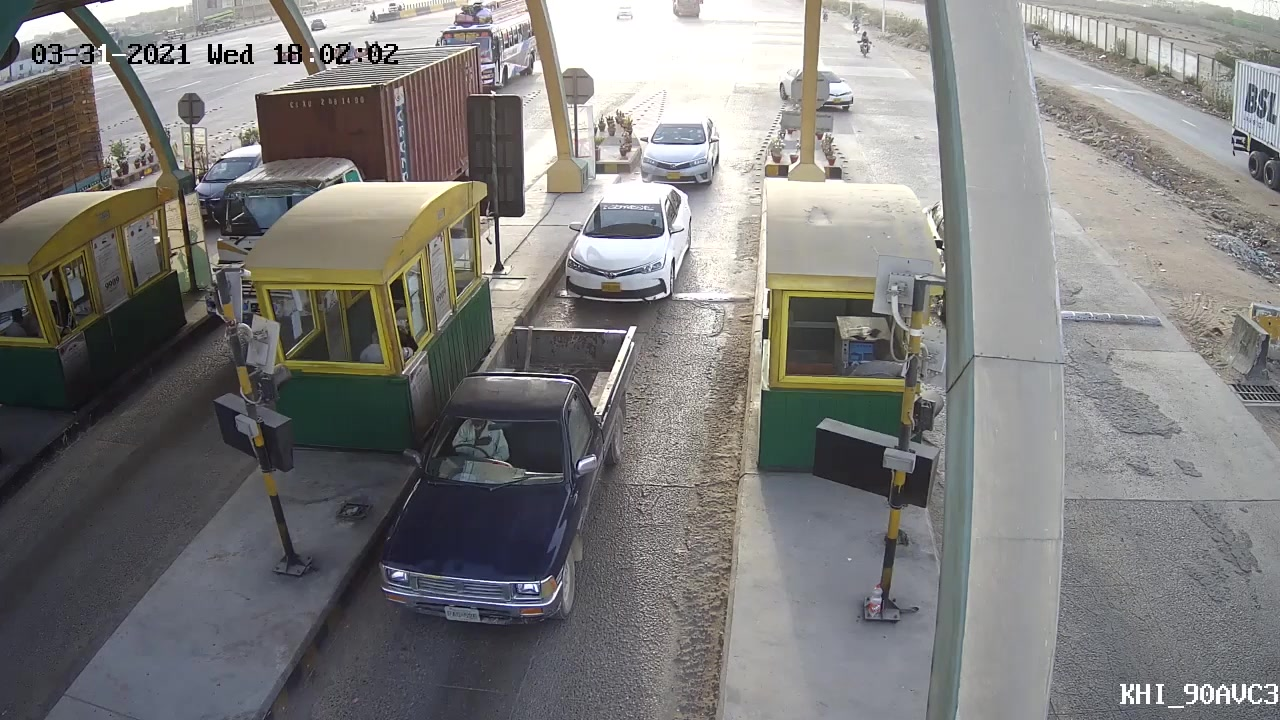F1: (371, 321, 651, 637), (556, 175, 697, 310)
